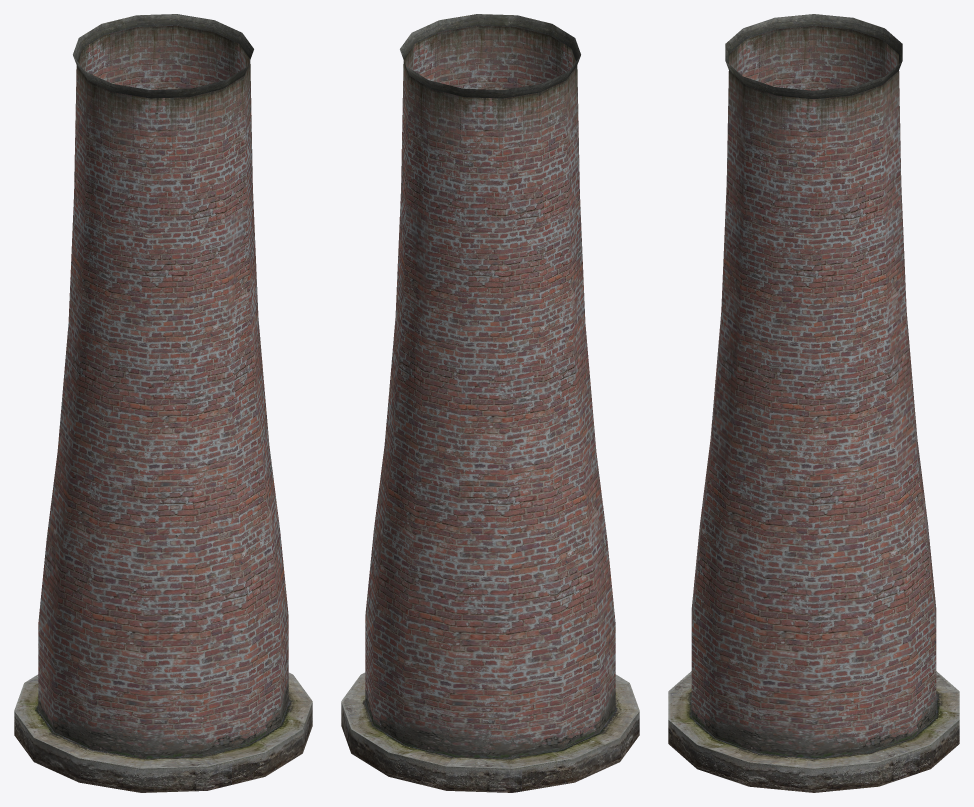
Rendered from Industrial_pipe_v1.glb.
The picture shows the model from 3 angles, left to right: view 1: azimuth 30°, elevation 25°; view 2: azimuth 150°, elevation 25°; view 3: azimuth 270°, elevation 25°; orthographic projection.
Visible parts, largest first — view 1: Industrial_pipe_v1; view 2: Industrial_pipe_v1; view 3: Industrial_pipe_v1.
Boxes of the visible parts, <box> form: Industrial_pipe_v1: <box>14,14,312,792</box>; Industrial_pipe_v1: <box>341,14,639,792</box>; Industrial_pipe_v1: <box>668,14,959,792</box>.
Size of the model in its own units: 4.52 by 11.29 by 4.4.
1 material, 1 textured.
